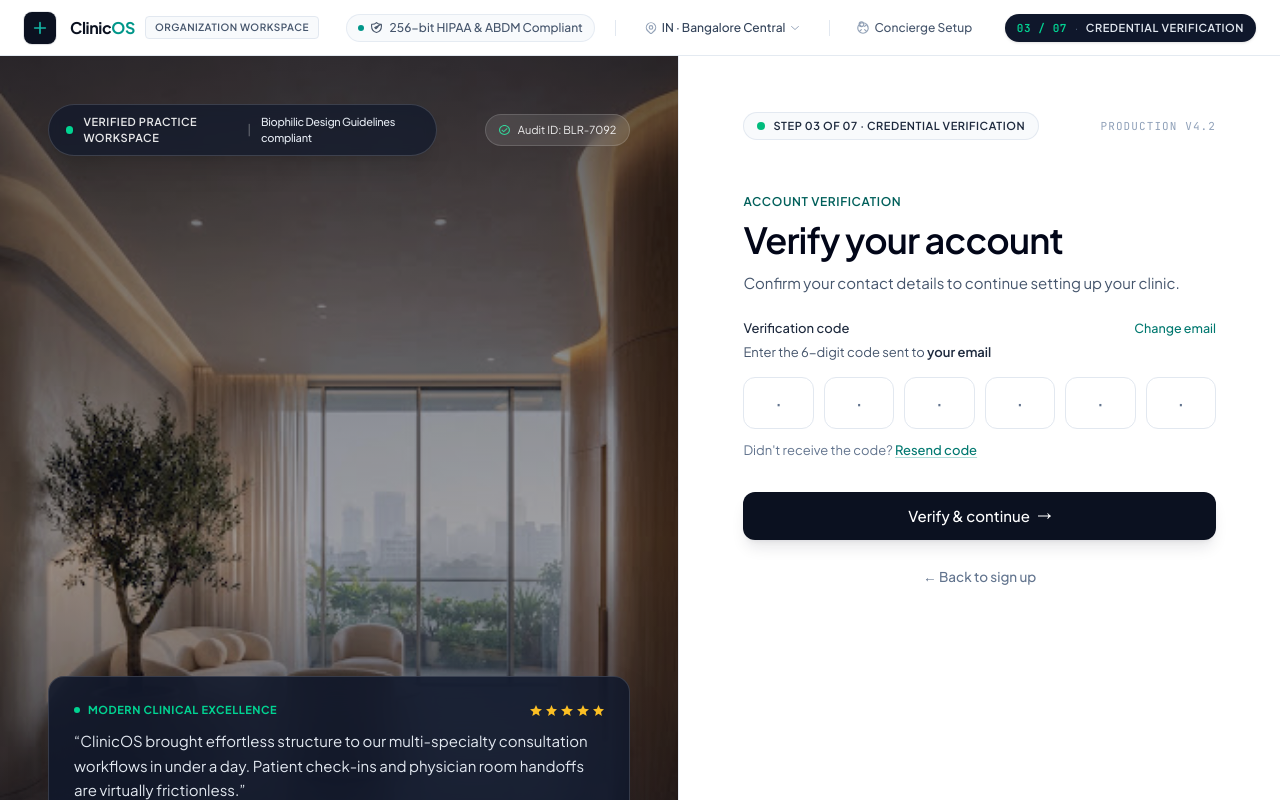
Test: verify account page › requires the full code before continuing
Click the field named "Digit 1": (779, 403) [743,377,814,429]
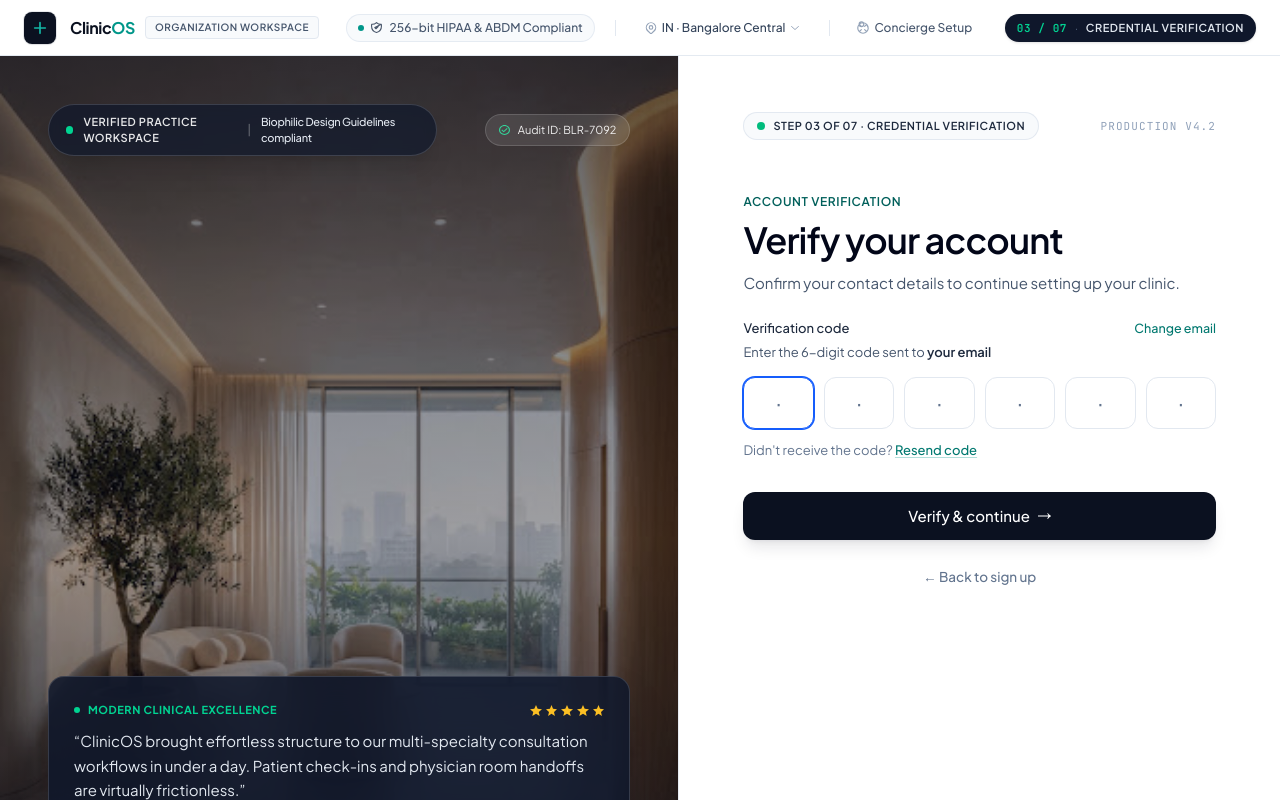
Type keys "84"
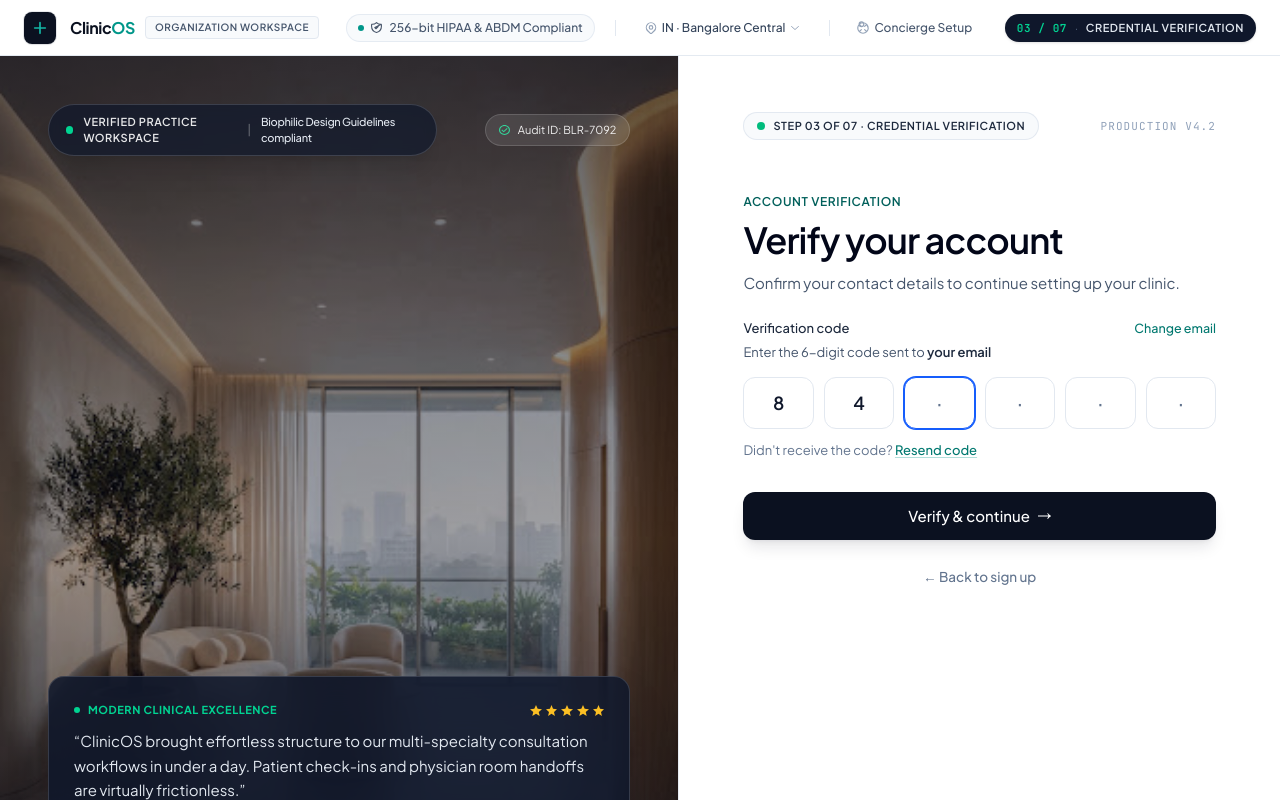
Click the button "Verify & continue": (980, 516) [743,492,1216,540]
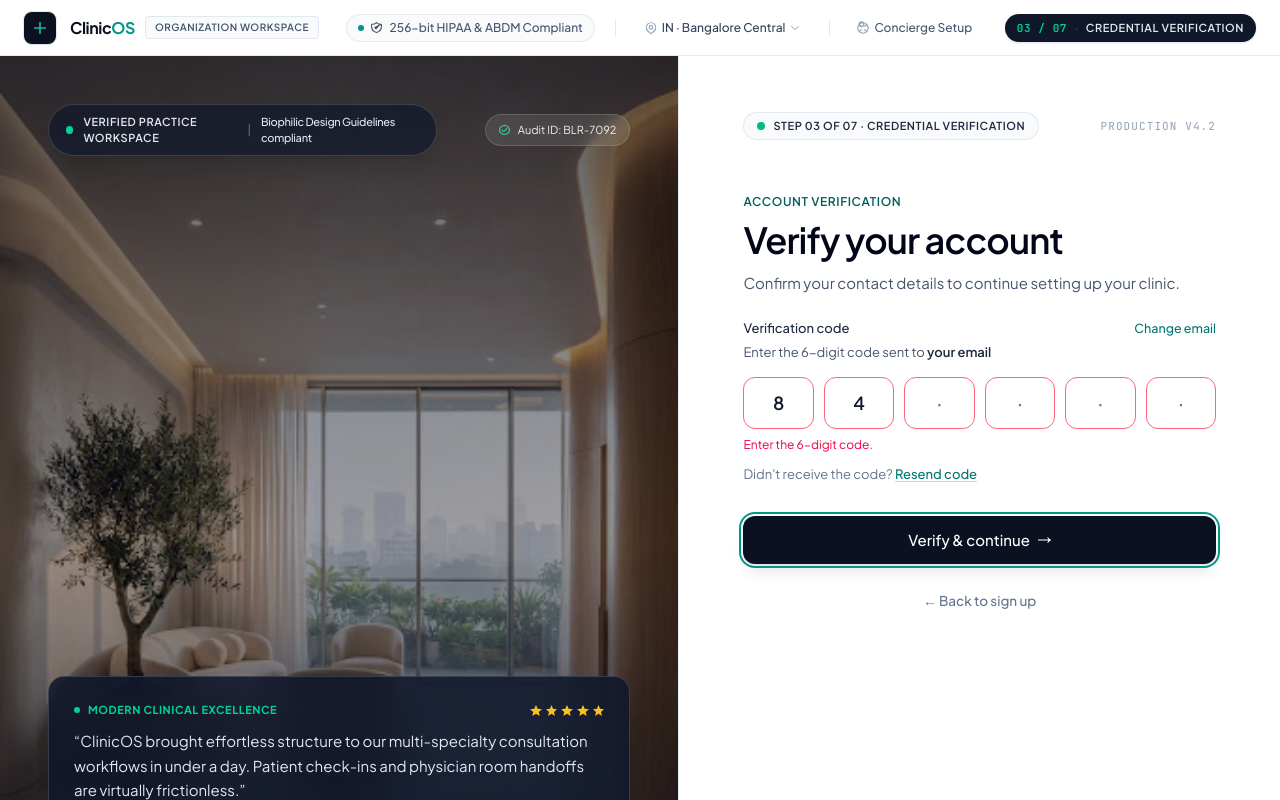
Now the message reads "Enter the 6-digit code.", box [743,437,873,452]
